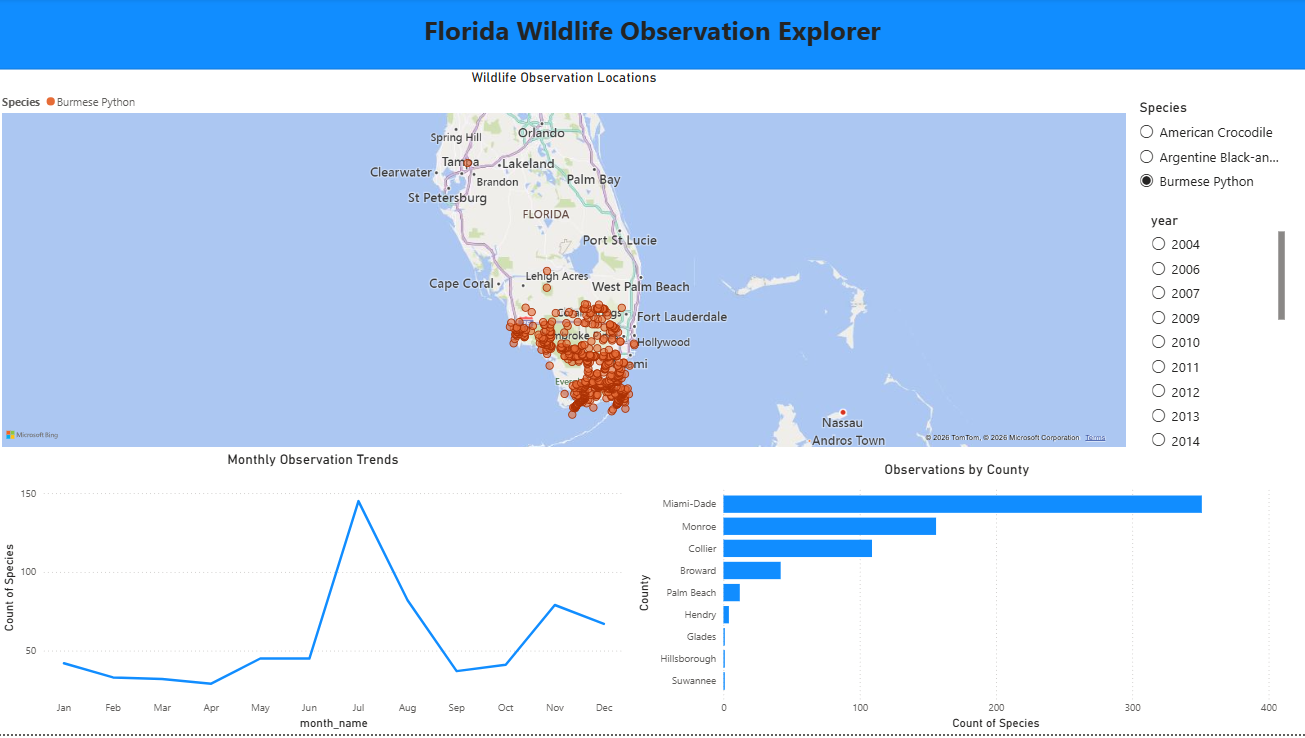

What the dashboard file says about the page in this screenshot:
{"tool":"powerbi","page":{"name":"Page 1","canvas":[1600,900],"ordinal":0},"visuals":[{"type":"map","title":"Wildlife Observation Locations","fields":{"Y":["wildlife_observations.latitude"],"X":["wildlife_observations.longitude"],"Series":["wildlife_observations.common_name"]},"box":[0,87.5,1384.2,466.6],"z":0},{"type":"listSlicer","fields":{"Values":["wildlife_observations.common_name"]},"box":[1391.1,123.5,200.7,118.4],"z":1000},{"type":"listSlicer","fields":{"Values":["wildlife_observations.year"]},"box":[1404.7,261.4,174.3,292],"z":2000},{"type":"shape","box":[0,0,1600.3,87.5],"z":2500},{"type":"lineChart","title":"Monthly Observation Trends","fields":{"Category":["wildlife_observations.month_name"],"Y":["CountNonNull(wildlife_observations.common_name)"]},"box":[0,554,770.2,346.5],"z":3000},{"type":"barChart","title":"Observations by County","fields":{"Category":["wildlife_observations.place_county_name"],"Y":["CountNonNull(wildlife_observations.common_name)"]},"box":[777,566,792.5,334.5],"z":4000},{"type":"textbox","box":[0,12,1600.3,75.5],"z":6000}]}

Visuals, with their boxes in screenshot pixels (x1, y1, x2, y2), scaled from the page's 1600x900 canvas onto the 1305x738 screenshot:
"Wildlife Observation Locations" map: (0, 72, 1129, 454)
listSlicer - wildlife_observations.common_name: (1135, 101, 1298, 198)
listSlicer - wildlife_observations.year: (1146, 214, 1288, 454)
shape: (0, 0, 1304, 72)
"Monthly Observation Trends" lineChart: (0, 454, 628, 737)
"Observations by County" barChart: (634, 464, 1280, 737)
textbox: (0, 10, 1304, 72)
